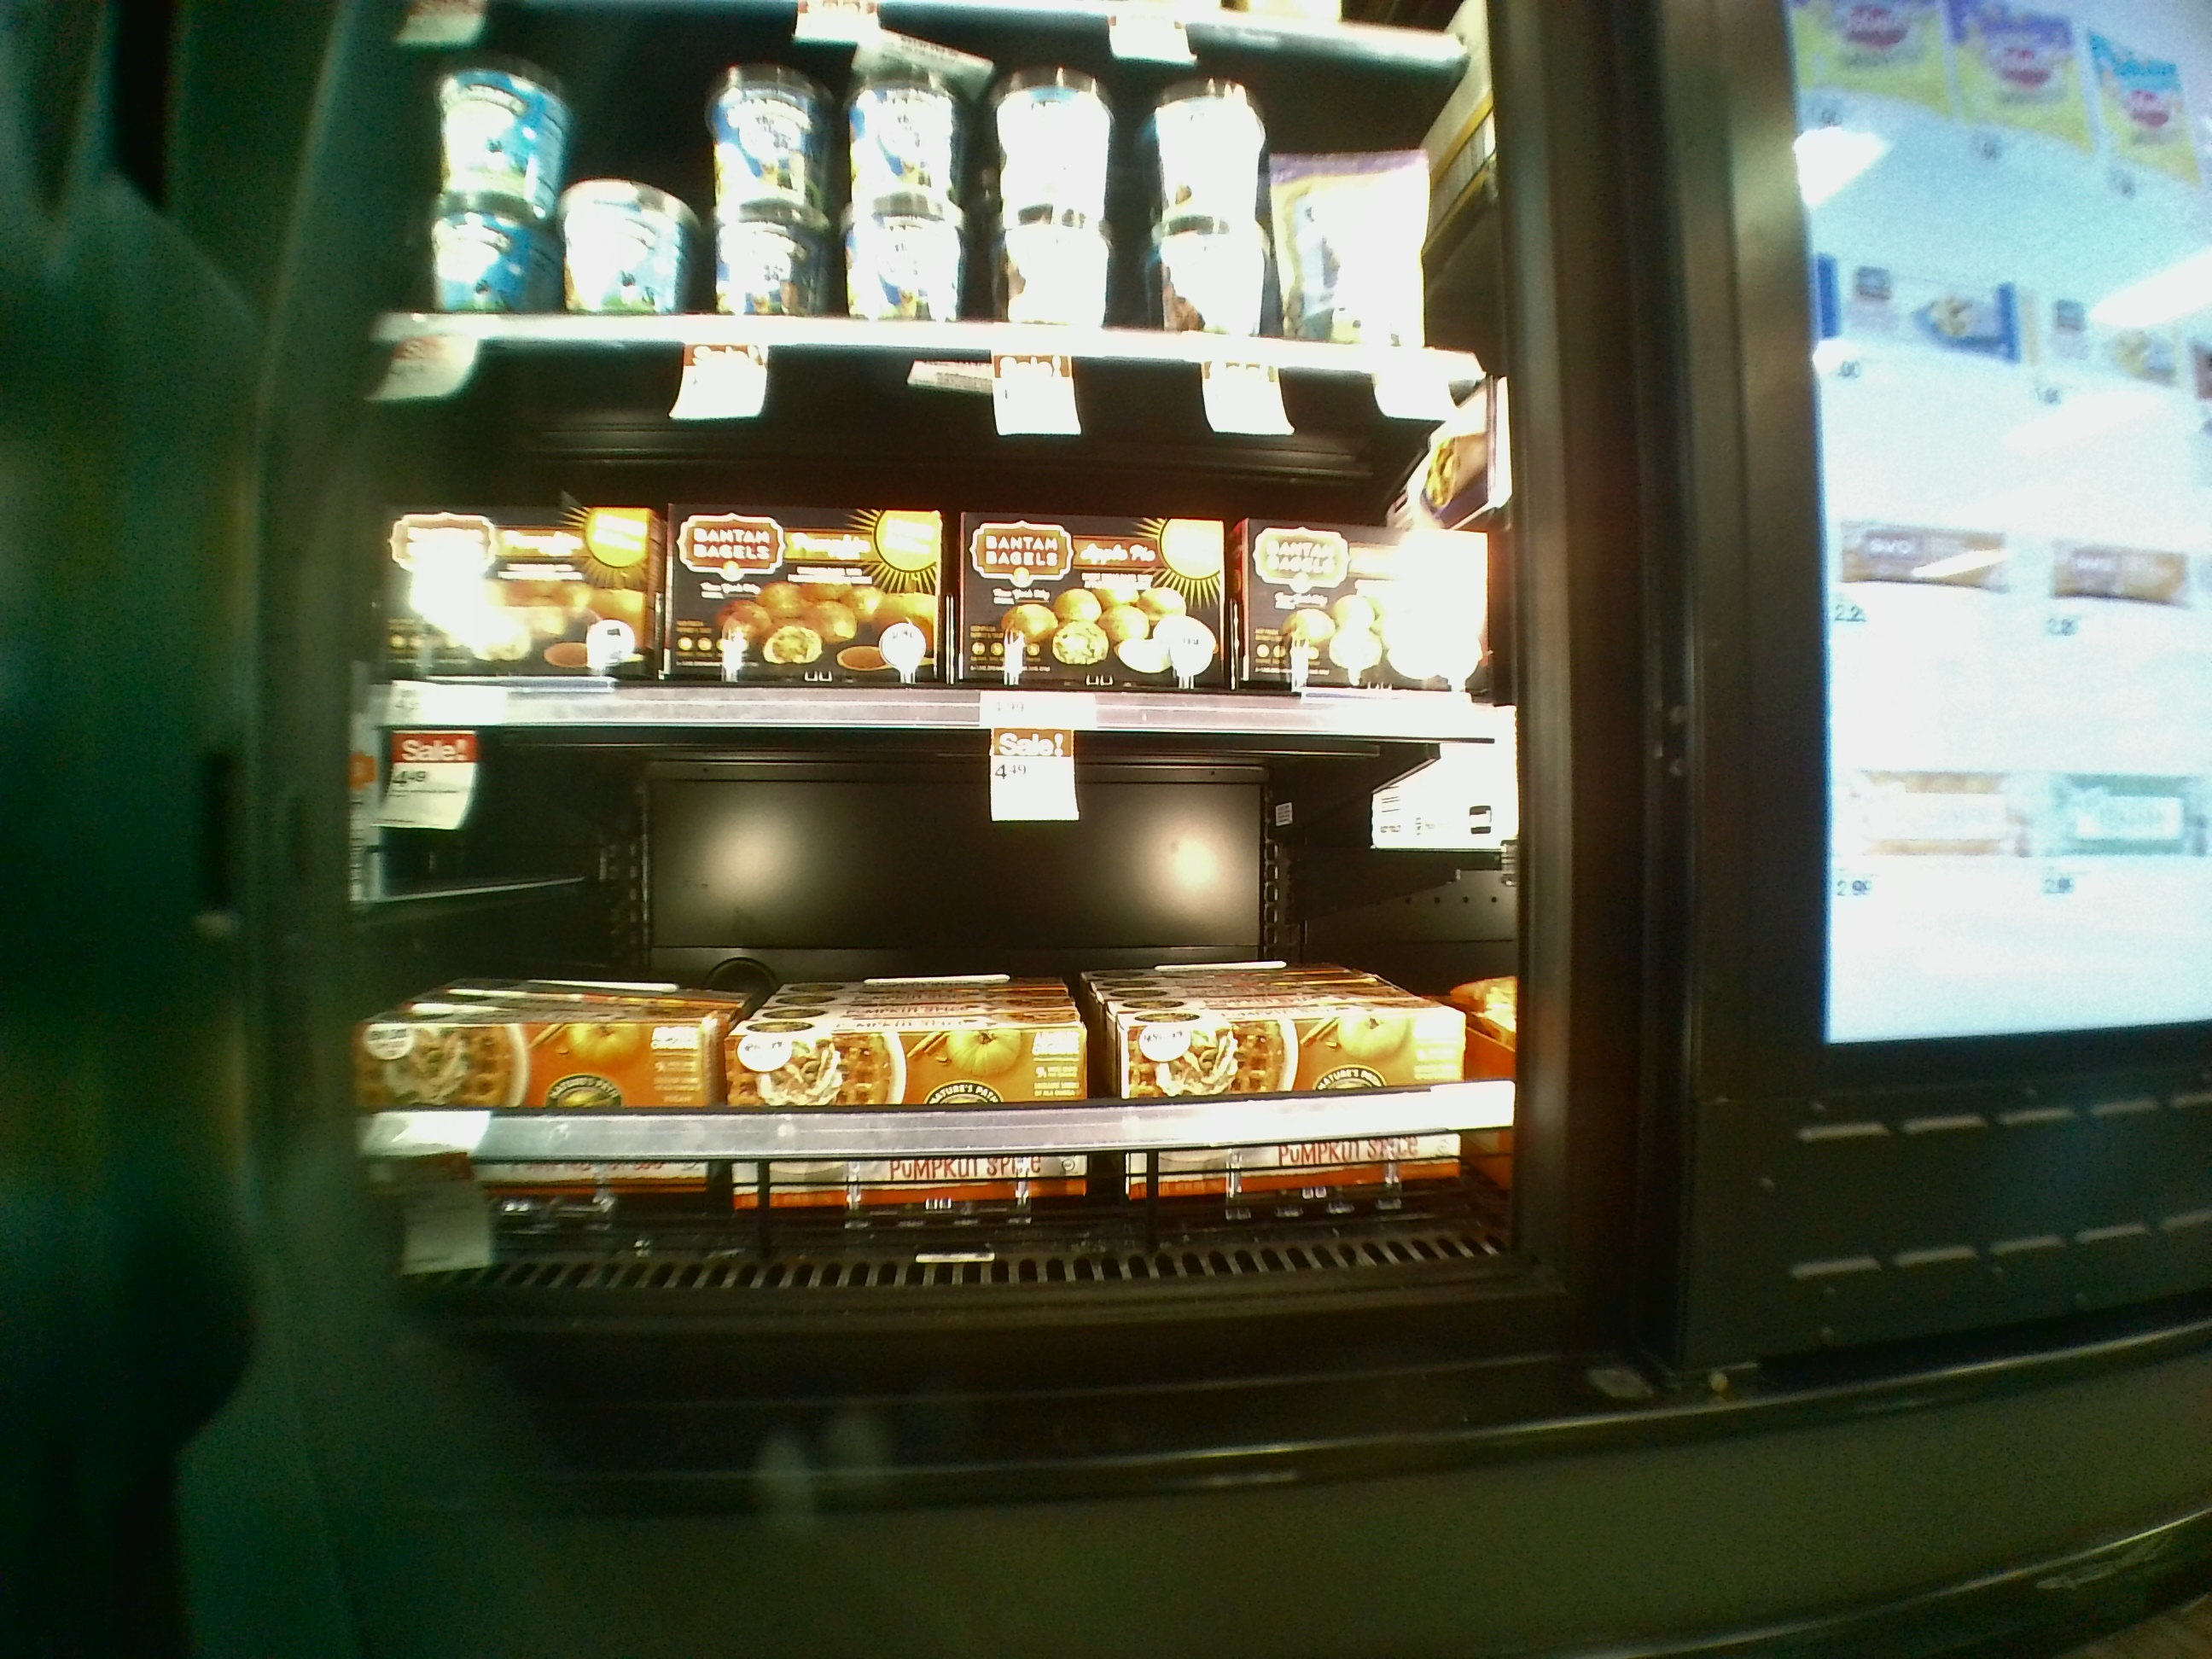shelf: (322, 704, 1536, 1324), (355, 315, 1529, 741)
